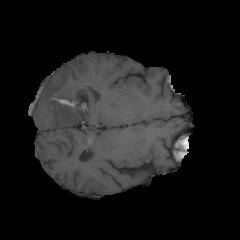glioma: (29, 74, 102, 130)
